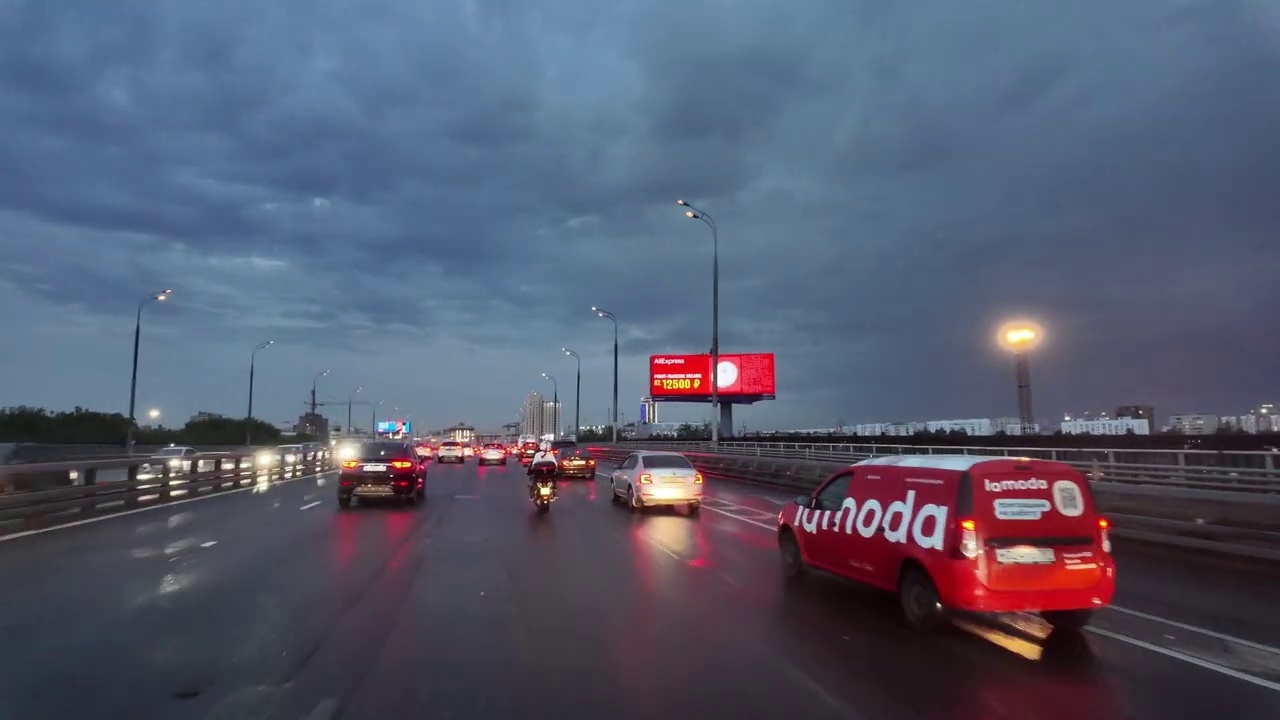acesa: (997, 315, 1042, 358), (674, 197, 701, 224)
apagada: (154, 284, 174, 306)
